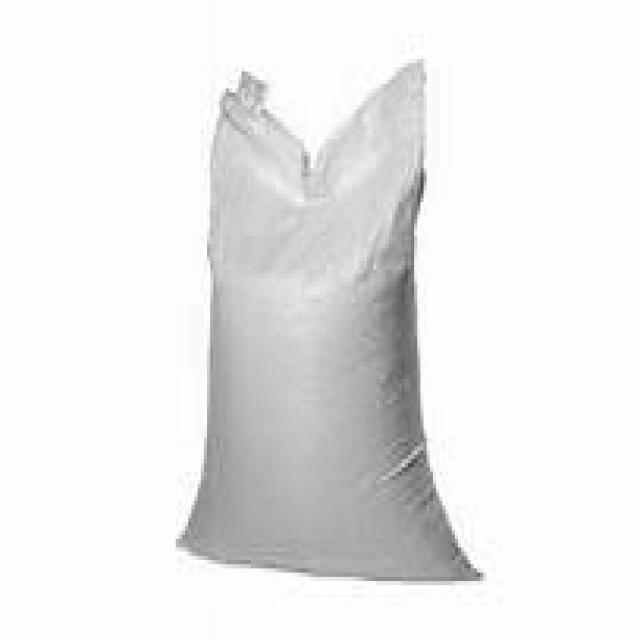gunny_bag: (167, 53, 489, 588)
